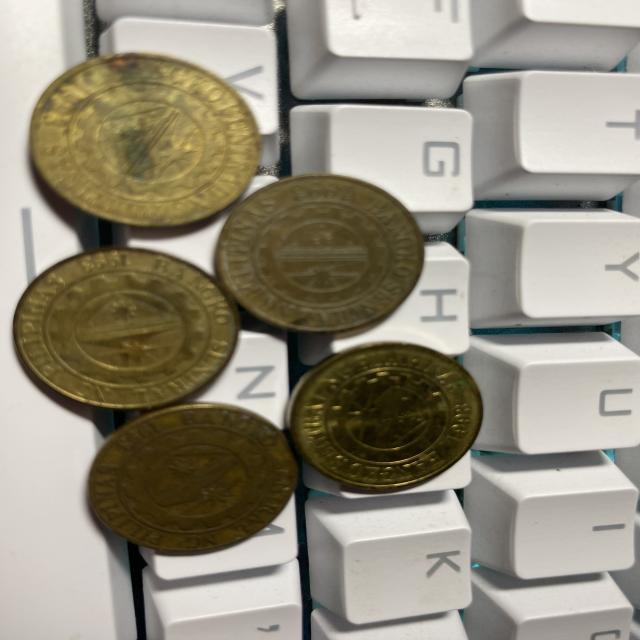25Cent_Old_Back: (15, 248, 229, 409), (30, 58, 242, 216), (91, 403, 291, 545), (237, 177, 412, 326), (294, 338, 472, 484)
